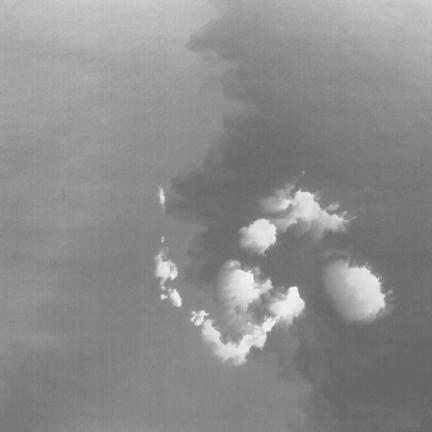flukeprints: (323, 260, 385, 321), (201, 320, 269, 364), (217, 260, 271, 314), (260, 188, 321, 230), (238, 219, 276, 254), (268, 287, 304, 323), (155, 251, 170, 290), (190, 310, 208, 326), (165, 260, 178, 280), (167, 289, 182, 306), (262, 317, 277, 332), (158, 186, 165, 211), (173, 297, 180, 305), (173, 290, 178, 294)
